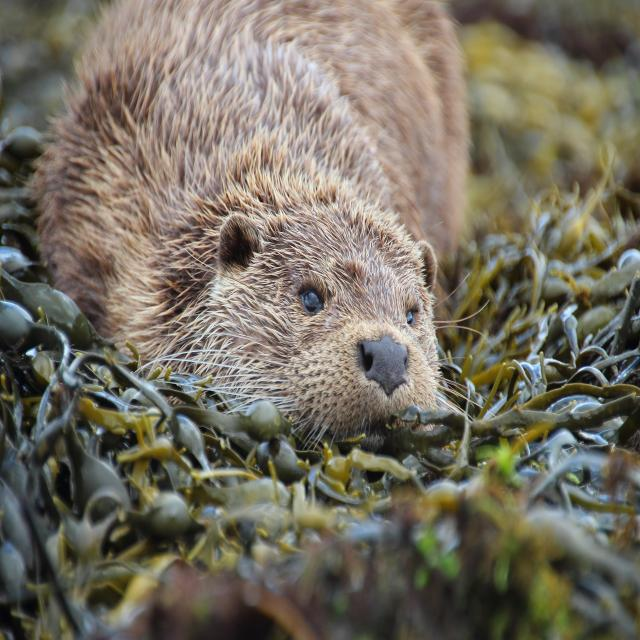otter: (47, 1, 456, 422)
